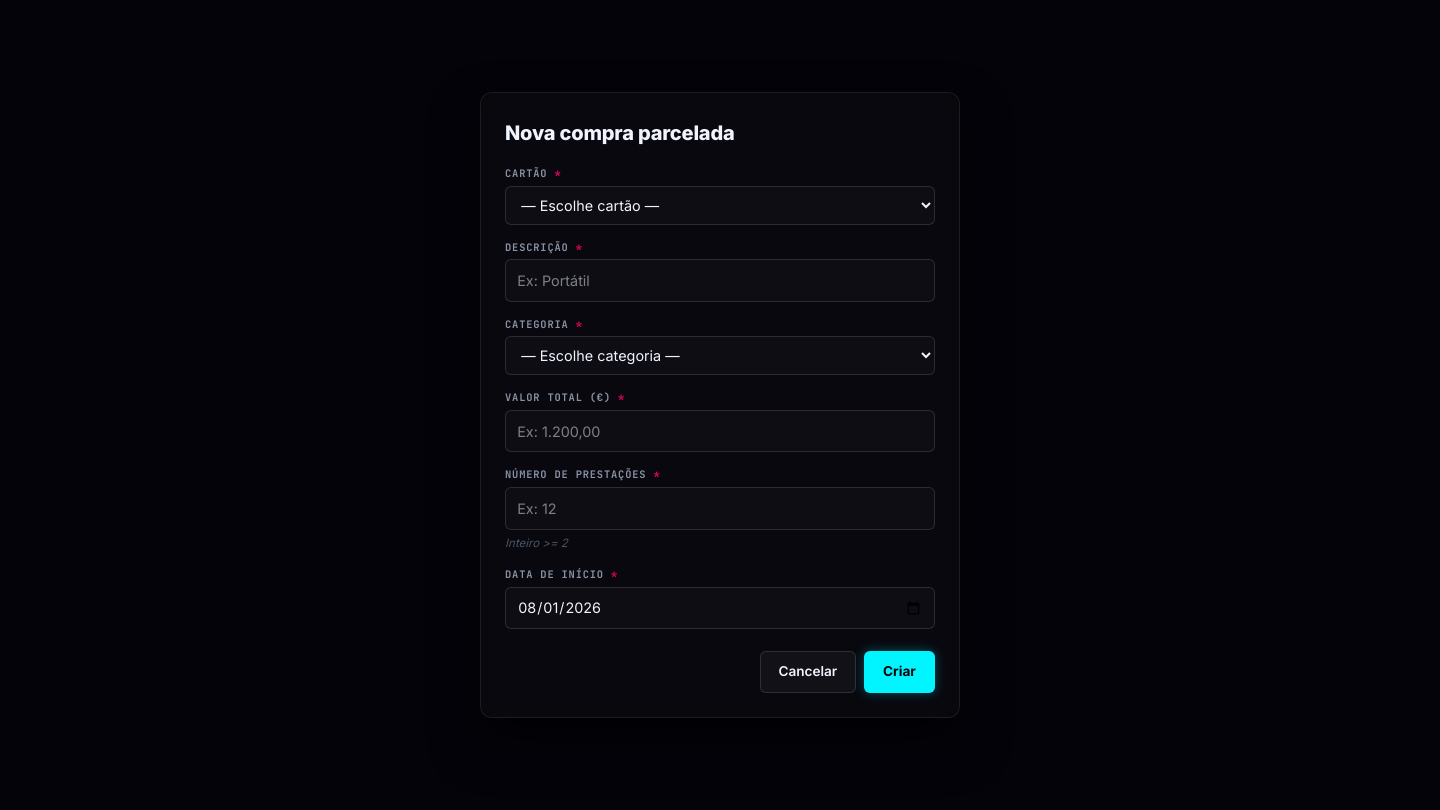
Test: InstallmentFormModal (Story 9.1b / cobertura finanças) › caminho de erro 2 — número de prestações < 2 (validação defensiva no submit)
Select "Millennium Gold" in the dropdown with id "installment-card" at (720, 205), box [505, 186, 935, 225]
Type "Portátil" into the field with id "installment-description".
click(720, 280); type("Portátil")  # box [505, 259, 935, 302]
Select "Equipamento" in the dropdown with id "installment-category" at (720, 356), box [505, 336, 935, 375]
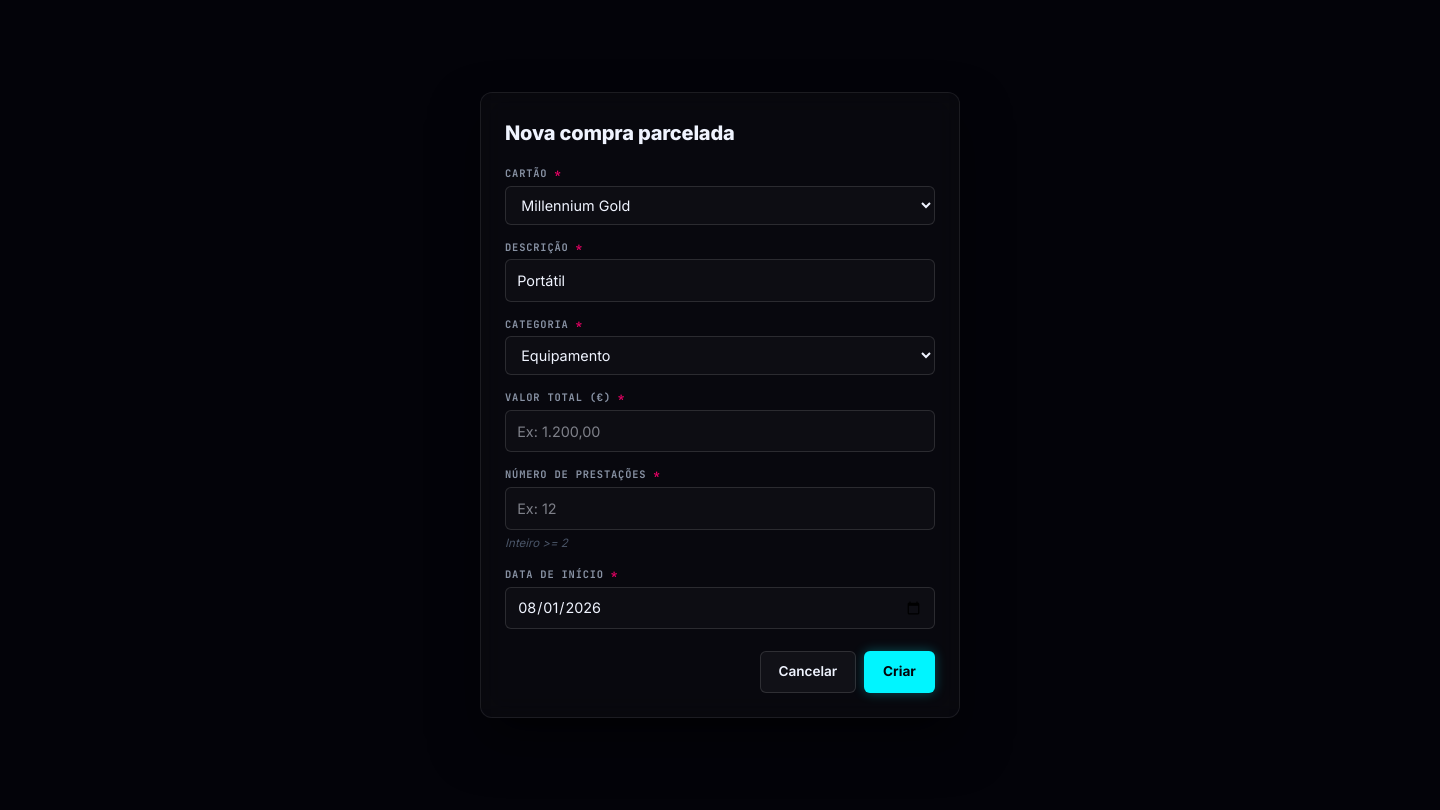
Type "1.200,00" into the field with id "installment-total".
click(720, 431); type("1.200,00")  # box [505, 410, 935, 452]
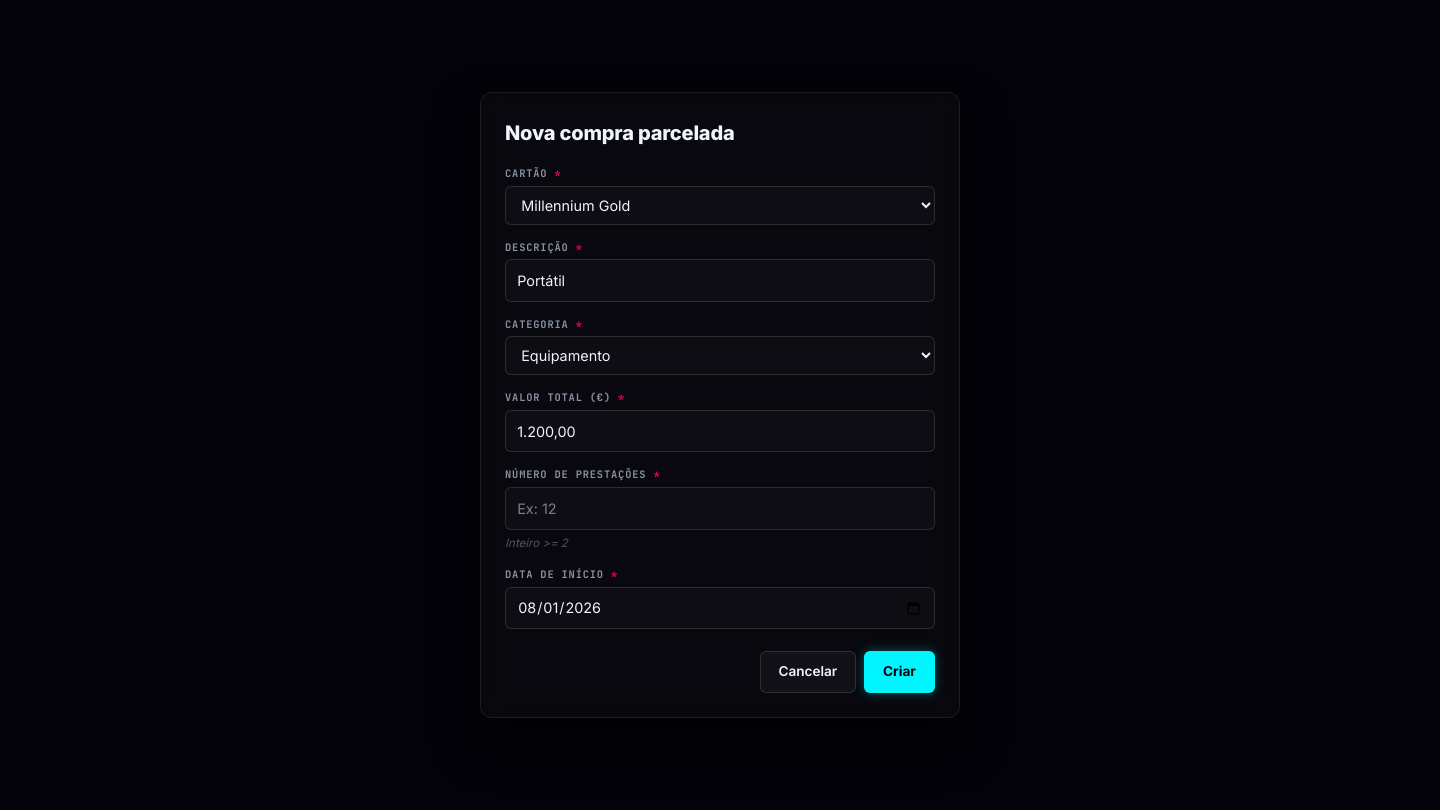
Type "12" into the number field with id "installment-count".
click(720, 508); type("12")  # box [505, 487, 935, 530]
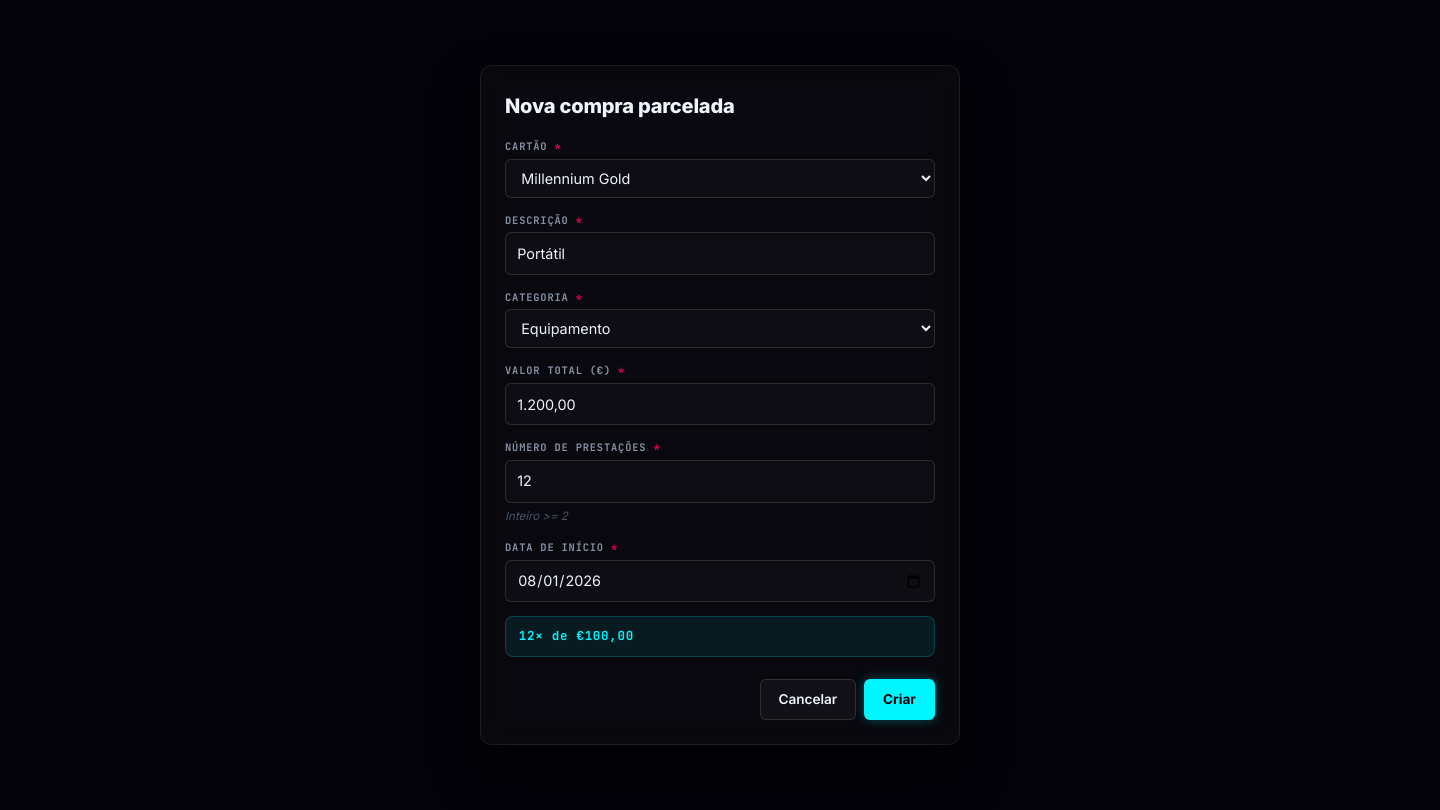
Type "2026-05-15" into the date field with id "installment-start".
click(720, 580); type("2026-05-15")  # box [505, 559, 935, 602]
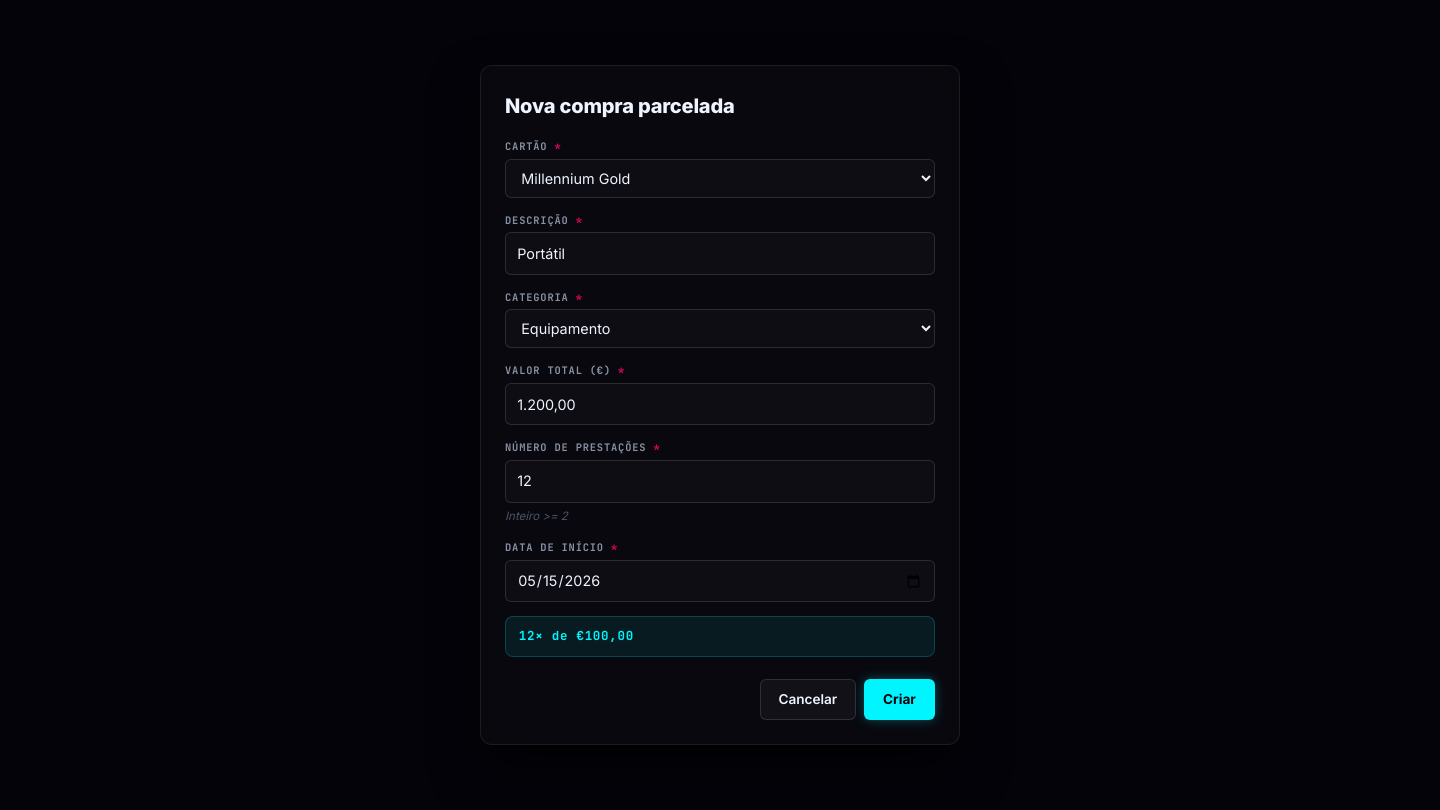
Replace the text in the number field with id "installment-count" with "1" at (720, 481), box [505, 459, 935, 502]
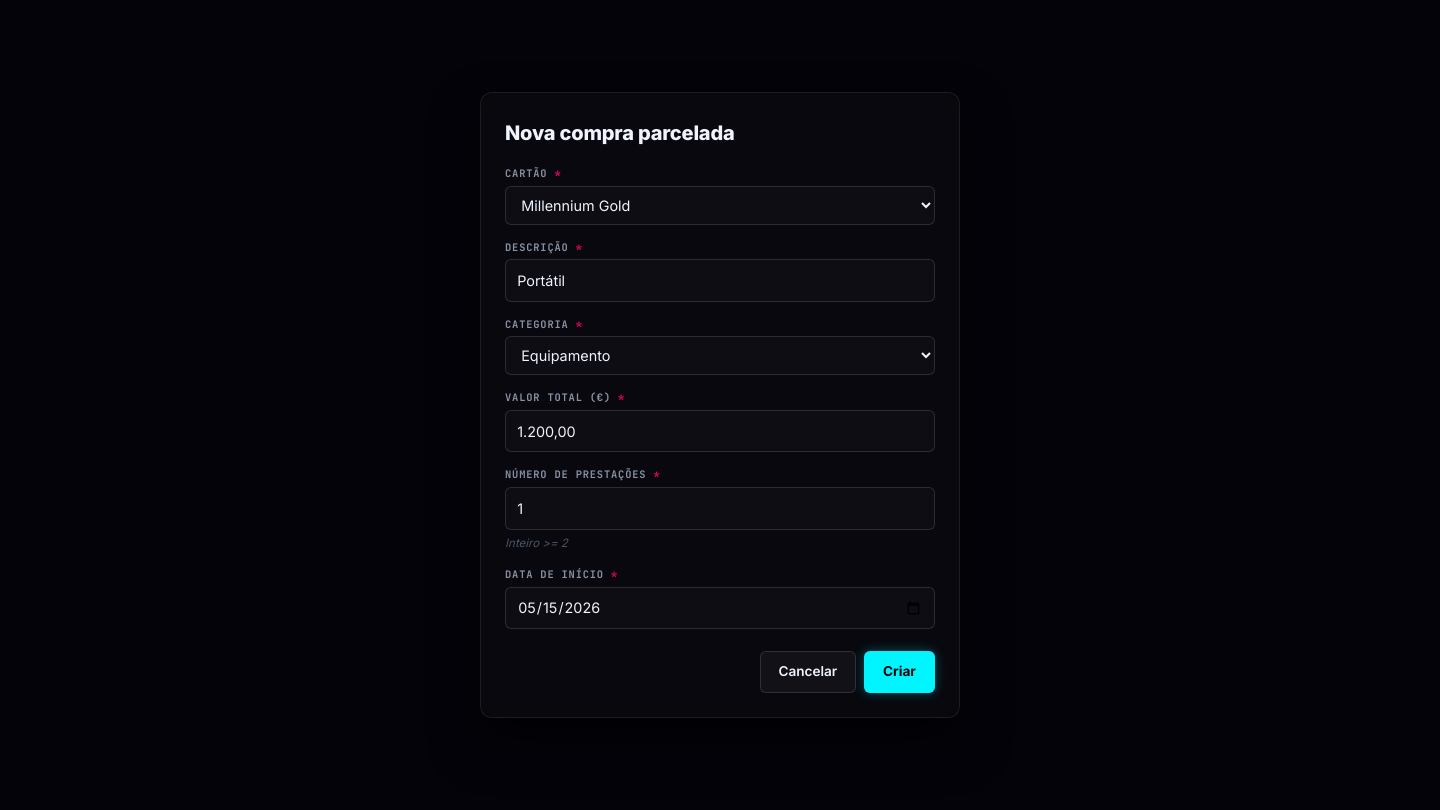
Submit the form, box [505, 165, 935, 693]
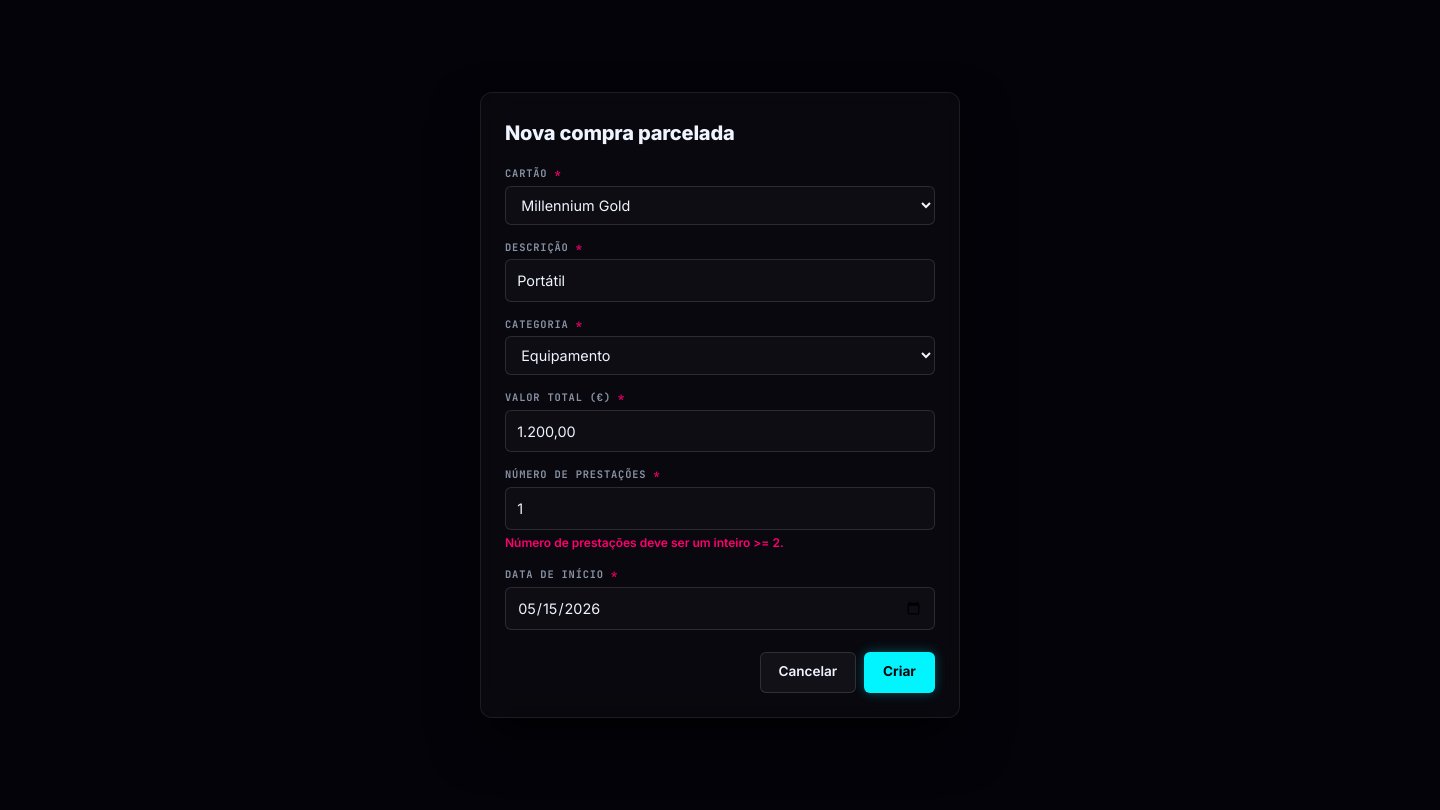
Now the text "Número de prestações deve ser um inteiro >= 2." is shown, box [505, 535, 784, 550]
